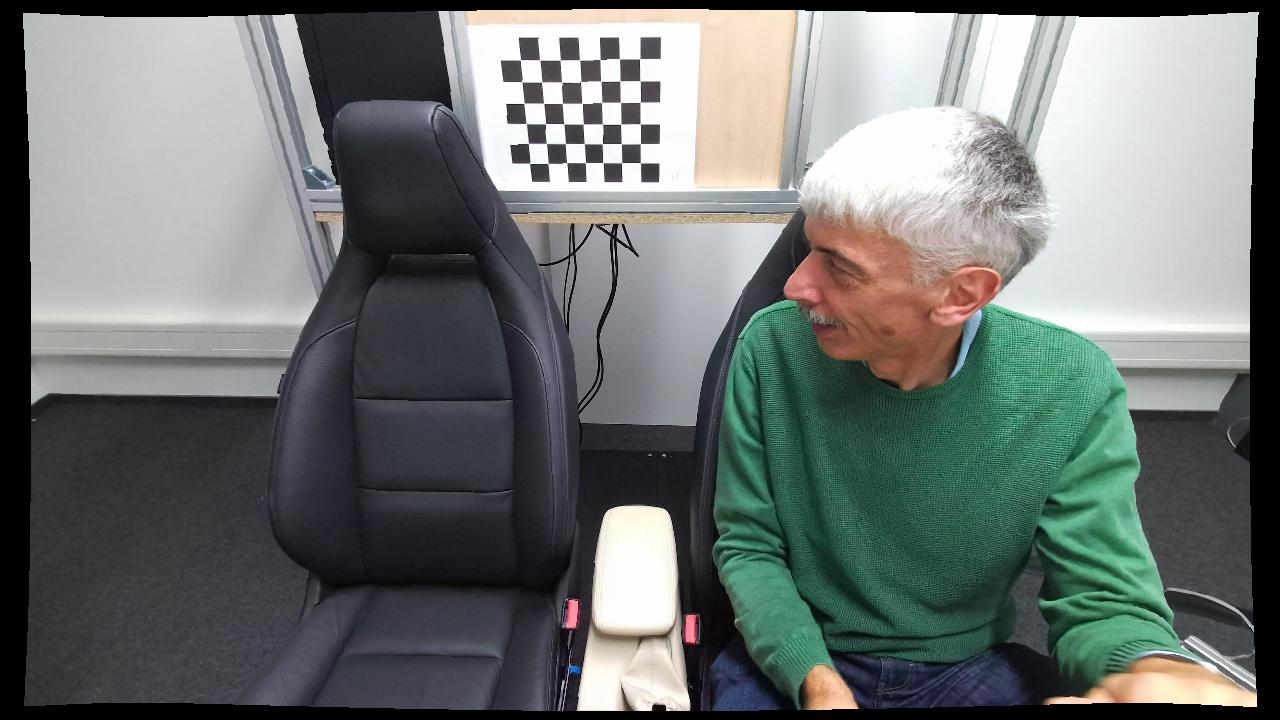Distracted: (703, 104, 1180, 715)
